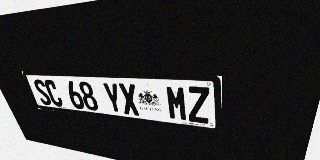6: (64, 81, 86, 110)
8: (77, 81, 99, 111)
C: (43, 80, 64, 107)
M: (165, 85, 188, 121)
S: (32, 79, 53, 106)
X: (118, 83, 140, 116)
Y: (101, 82, 124, 114)
Z: (187, 86, 210, 124)
